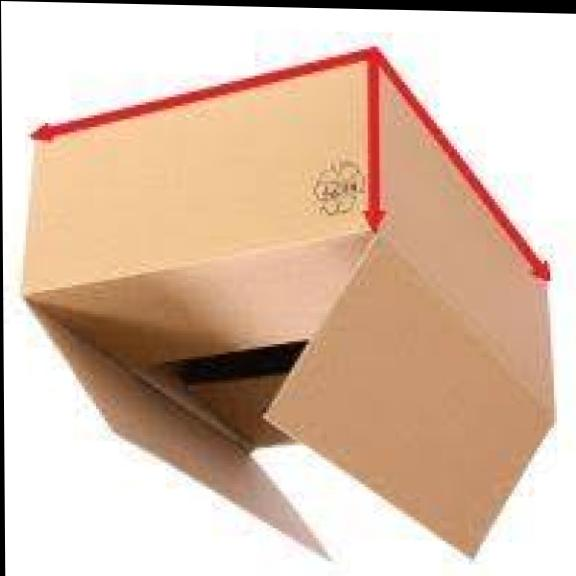Kertas: (25, 51, 553, 555)
